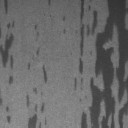red iron: (74, 0, 128, 128), (0, 0, 16, 84), (26, 86, 45, 128), (27, 46, 48, 82), (0, 98, 11, 124), (34, 24, 39, 35), (48, 0, 52, 6), (62, 28, 66, 34), (62, 16, 66, 21)
